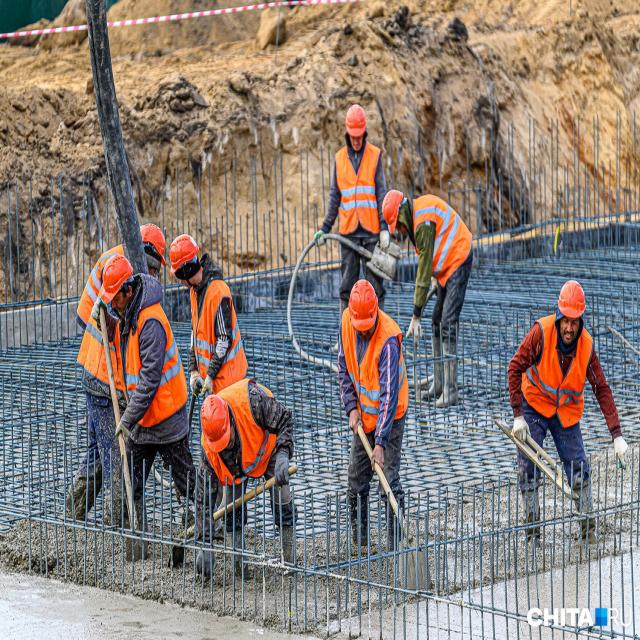Helmet: (200, 394, 233, 457), (349, 278, 381, 335), (101, 257, 135, 306), (169, 234, 199, 280), (557, 280, 588, 322), (143, 223, 169, 267), (383, 191, 406, 237), (345, 105, 369, 143)
Jacket: (342, 318, 397, 441), (129, 299, 174, 442), (527, 325, 594, 419), (191, 275, 237, 392), (413, 202, 468, 274), (341, 143, 381, 238), (218, 432, 273, 497)
